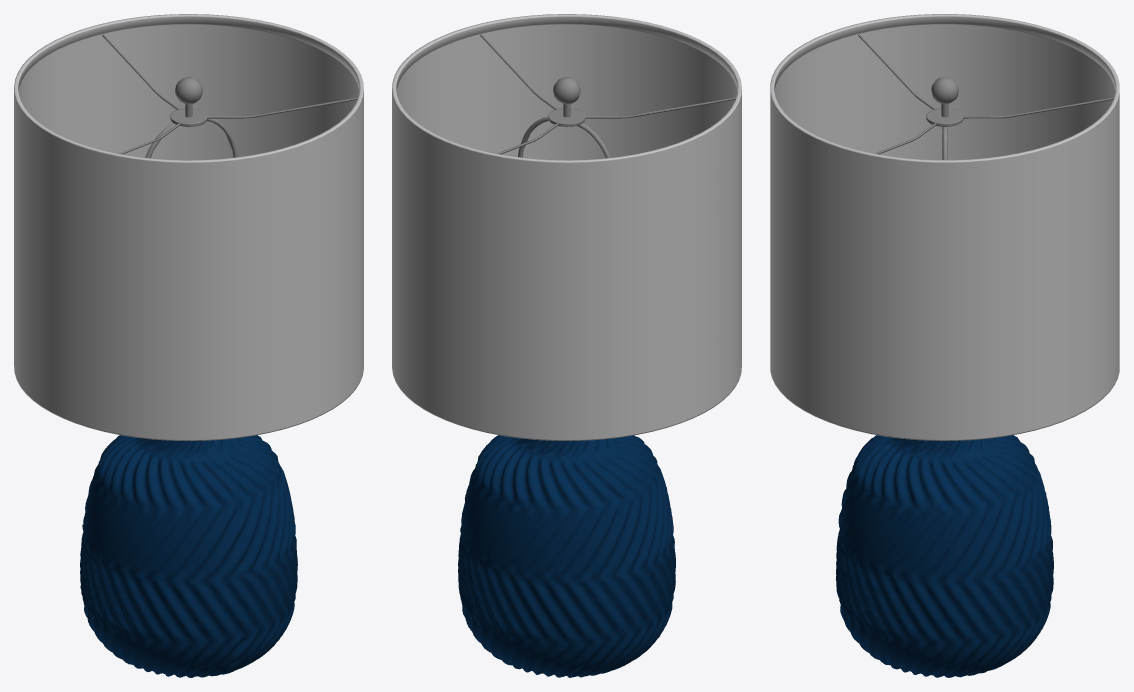
Rendered from abo-B07ML7NZR7.glb.
3 renders of one model, left to right at view 1: azimuth 30°, elevation 25°; view 2: azimuth 150°, elevation 25°; view 3: azimuth 270°, elevation 25°, orthographic.
Bounding box in the file's own units: 0.203 × 0.368 × 0.203.
1 material, 1 textured.
